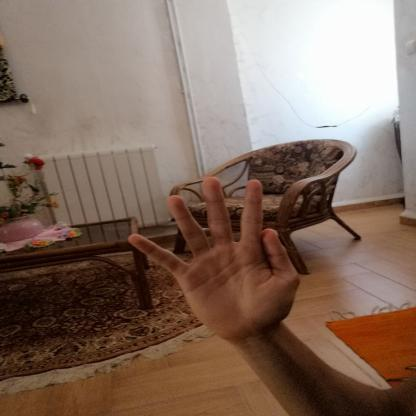SHEEN: (108, 166, 309, 354)
